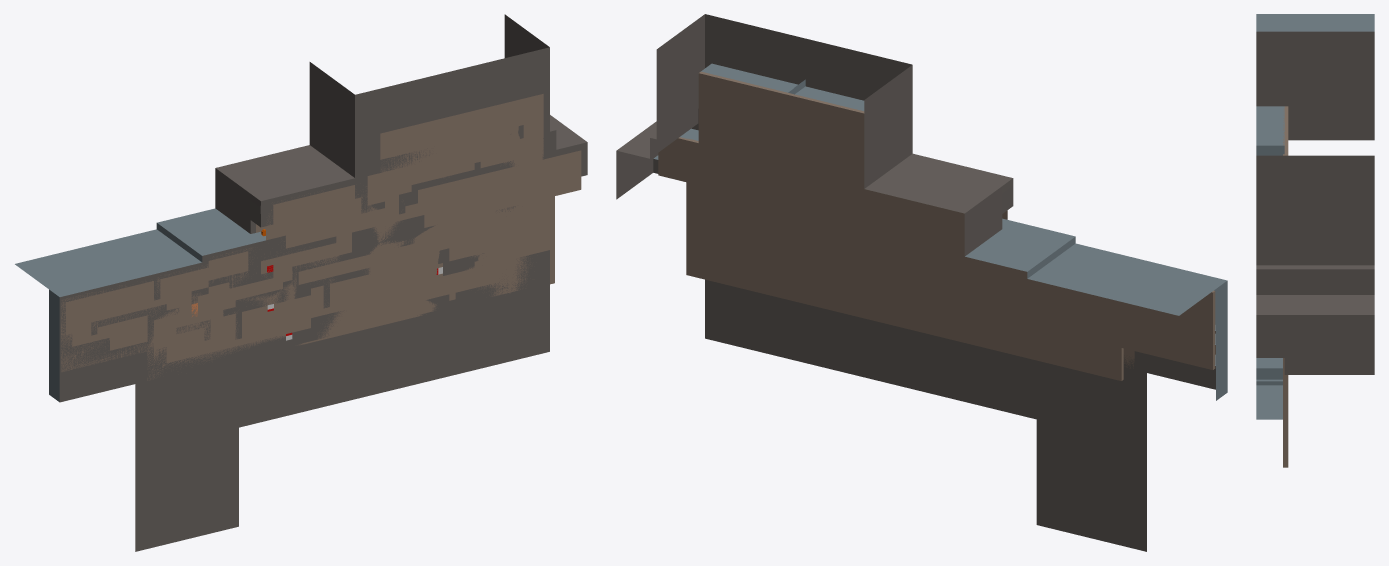
Rendered from Level_2.fbx.
3 renders of one model, left to right at view 1: azimuth 30°, elevation 25°; view 2: azimuth 150°, elevation 25°; view 3: azimuth 270°, elevation 25°, orthographic. The views are drawn at different scales.
Parts seen in each view (by area): view 1: Level2_LightBlock, Level2_Fill, Level2_BG, Level_2_001, Level_2_004, Level_2_003, Level_2_002, Level_2_005, Level_2; view 2: Level2_BGWall, Level2_Fill, Level2_BG, Level_2_001, Level_2_004, Level_2_003; view 3: Level2_BG, Level_2_001, Level2_Fill, Level_2_005, Level2_BGWall, Level_2_002, Level_2_004.
Boxes of the visible parts, x1,y1,x2,y2 form: Level2_LightBlock: [61, 94, 581, 380]; Level2_Fill: [135, 39, 549, 551]; Level2_BG: [15, 14, 576, 289]; Level_2_001: [250, 85, 587, 227]; Level_2_004: [49, 231, 336, 336]; Level_2_003: [49, 304, 179, 402]; Level_2_002: [223, 206, 515, 339]; Level_2_005: [286, 250, 549, 347]; Level_2: [154, 319, 285, 379]; Level2_BGWall: [658, 71, 1215, 380]; Level2_Fill: [693, 14, 1146, 551]; Level2_BG: [616, 23, 1215, 315]; Level_2_001: [653, 55, 1013, 213]; Level_2_004: [1002, 218, 1227, 330]; Level_2_003: [1127, 323, 1227, 400]; Level2_BG: [1284, 14, 1374, 374]; Level_2_001: [1256, 81, 1284, 357]; Level2_Fill: [1256, 31, 1284, 205]; Level_2_005: [1256, 379, 1282, 419]; Level2_BGWall: [1283, 106, 1288, 467]; Level_2_002: [1256, 358, 1282, 379]; Level_2_004: [1256, 14, 1284, 31].
Bounding box in the file's own units: 84 × 61.36 × 12.52.
